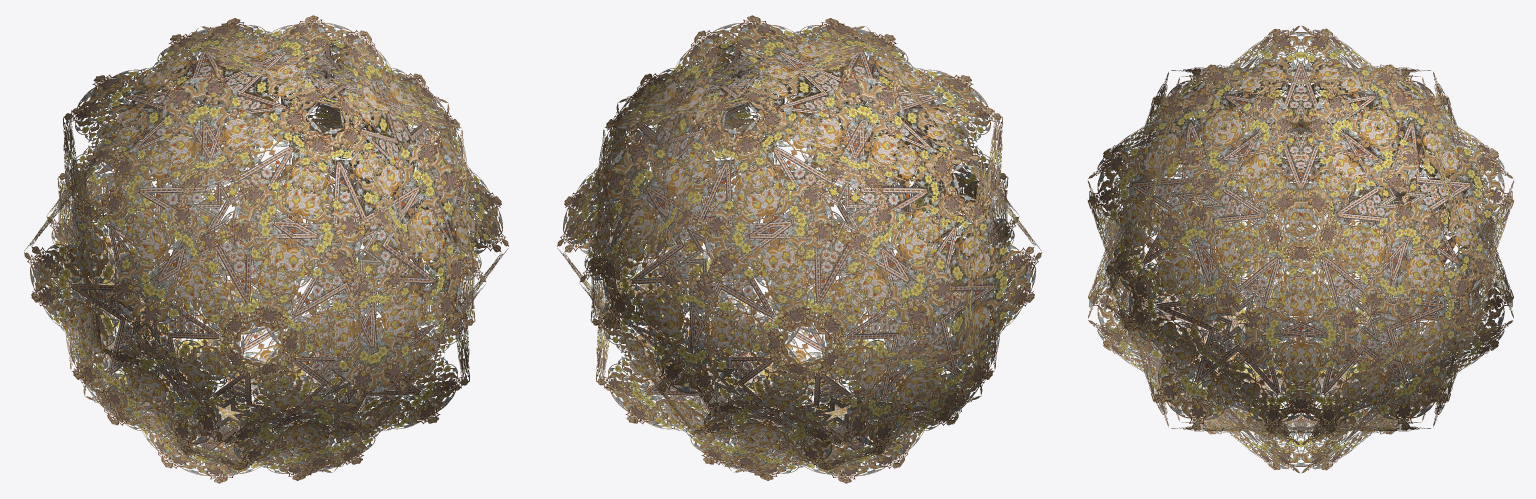
File: SmallTriambicIcosahedron13.gltf
3 views of the same model, side by side, from view 1: azimuth 30°, elevation 25°; view 2: azimuth 150°, elevation 25°; view 3: azimuth 270°, elevation 25° (orthographic). The views are drawn at different scales.
Parts seen in each view (by area): view 1: SmallTriambicIcosahedron; view 2: SmallTriambicIcosahedron; view 3: SmallTriambicIcosahedron.
Part boxes in pixels (x1,y1,x2,y2): SmallTriambicIcosahedron: (24, 15, 508, 483); SmallTriambicIcosahedron: (557, 15, 1041, 483); SmallTriambicIcosahedron: (1087, 25, 1514, 473).
Size of the model in its own units: 1.45 by 1.45 by 1.45.
Materials: 1 (1 with a texture image).
